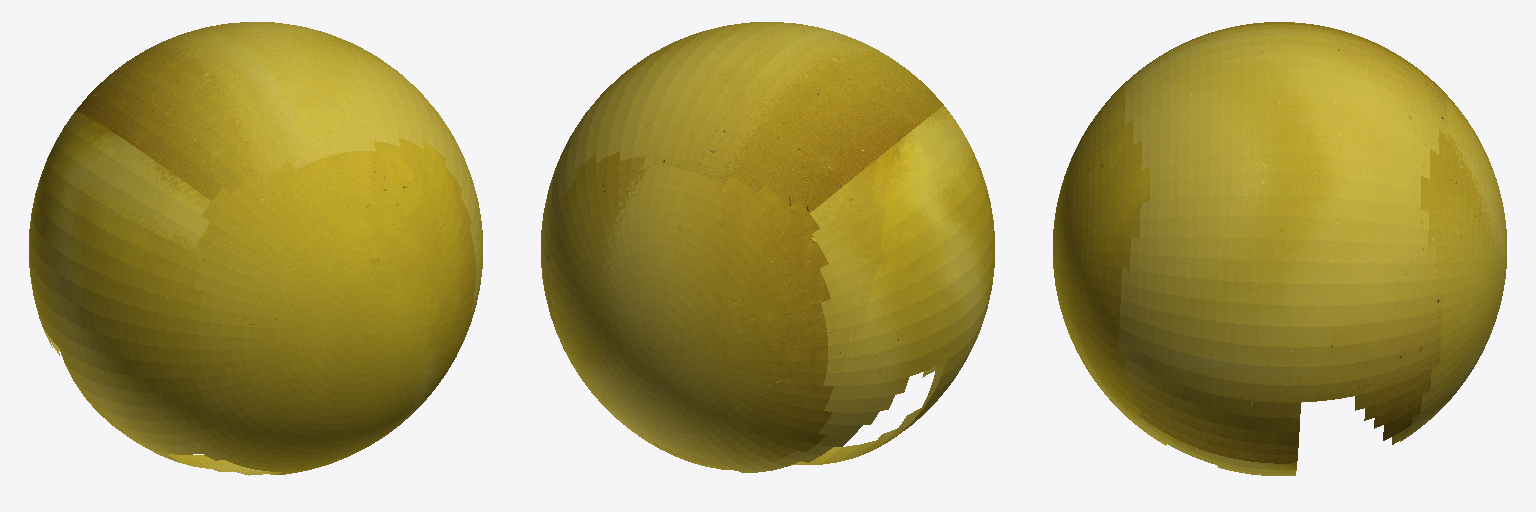
3 views of the same model, side by side, from view 1: azimuth 30°, elevation 25°; view 2: azimuth 150°, elevation 25°; view 3: azimuth 270°, elevation 25° (orthographic).
Parts seen in each view (by area): view 1: Sphere.000; view 2: Sphere.000; view 3: Sphere.000.
Part boxes in pixels (x1,y1,x2,y2): Sphere.000: (29, 22, 482, 475); Sphere.000: (541, 22, 994, 472); Sphere.000: (1053, 22, 1506, 475).
Bounding box in the file's own units: 0.0806 × 0.0833 × 0.0806.
1 materials, 1 textured.